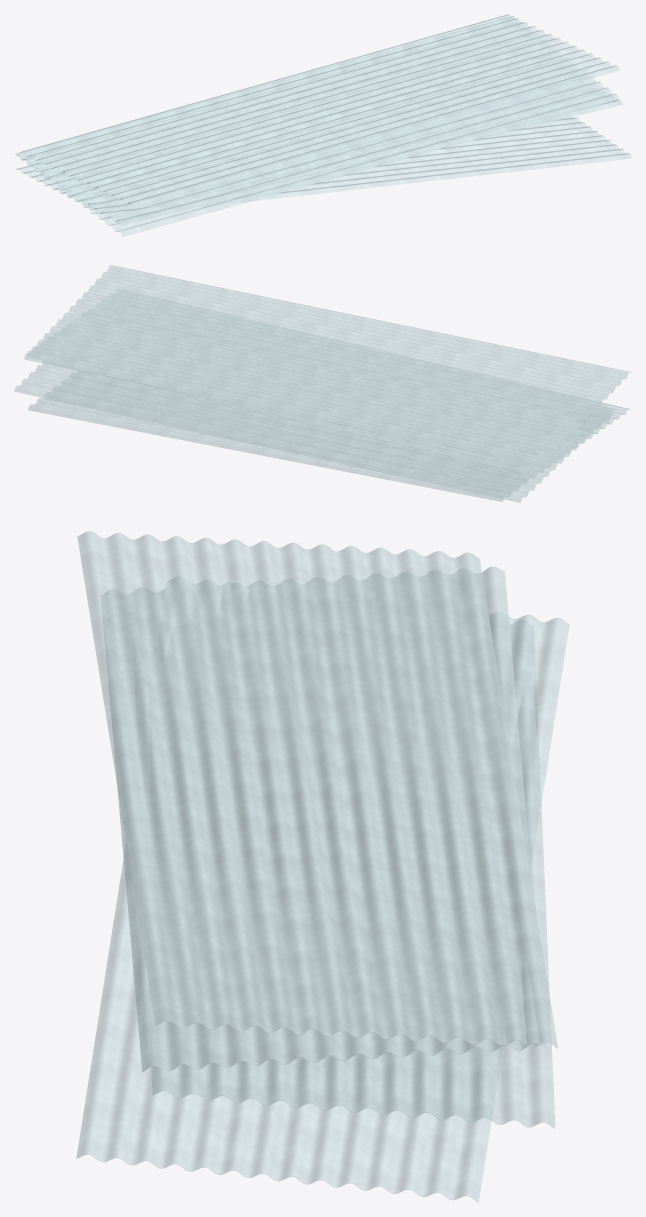
File: COB-MTL-004_anim.glb
The picture shows the model from 3 angles, top to bottom: view 1: azimuth 30°, elevation 25°; view 2: azimuth 150°, elevation 25°; view 3: azimuth 270°, elevation 25°; orthographic projection. The views are drawn at different scales.
Visible parts, largest first — view 1: COB-MTL-004_anim2, COB-MTL-004_anim3, COB-MTL-004_anim0, COB-MTL-004_anim1; view 2: COB-MTL-004_anim3, COB-MTL-004_anim2, COB-MTL-004_anim0, COB-MTL-004_anim1; view 3: COB-MTL-004_anim3, COB-MTL-004_anim2, COB-MTL-004_anim0, COB-MTL-004_anim1.
Boxes of the visible parts, x1=… form: COB-MTL-004_anim2: x1=14, y1=16, x2=618, y2=236; COB-MTL-004_anim3: x1=20, y1=14, x2=619, y2=206; COB-MTL-004_anim0: x1=16, y1=113, x2=631, y2=217; COB-MTL-004_anim1: x1=16, y1=81, x2=622, y2=224; COB-MTL-004_anim3: x1=24, y1=265, x2=630, y2=465; COB-MTL-004_anim2: x1=26, y1=288, x2=630, y2=476; COB-MTL-004_anim0: x1=28, y1=371, x2=613, y2=501; COB-MTL-004_anim1: x1=14, y1=361, x2=616, y2=502; COB-MTL-004_anim3: x1=77, y1=531, x2=557, y2=1048; COB-MTL-004_anim2: x1=101, y1=566, x2=546, y2=1072; COB-MTL-004_anim0: x1=76, y1=577, x2=569, y2=1202; COB-MTL-004_anim1: x1=131, y1=588, x2=555, y2=1128.
Bounding box in the file's own units: 3.09 × 0.5128 × 1.28.
1 material, 1 textured.
